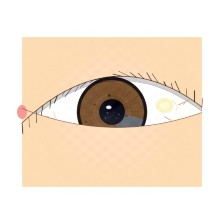pinguecula_lesion: (147, 91, 182, 120)
